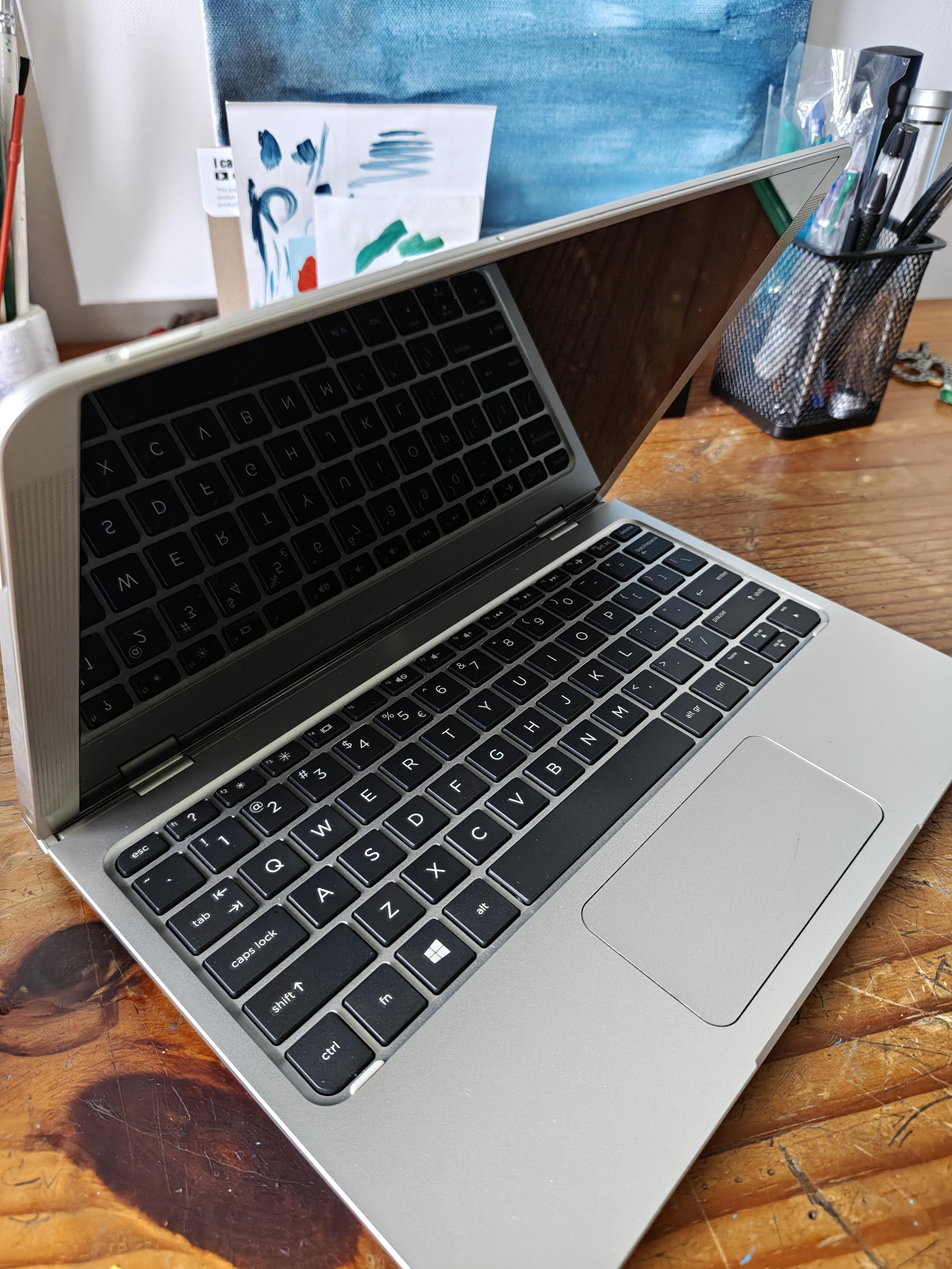laptop: (0, 139, 952, 1268)
